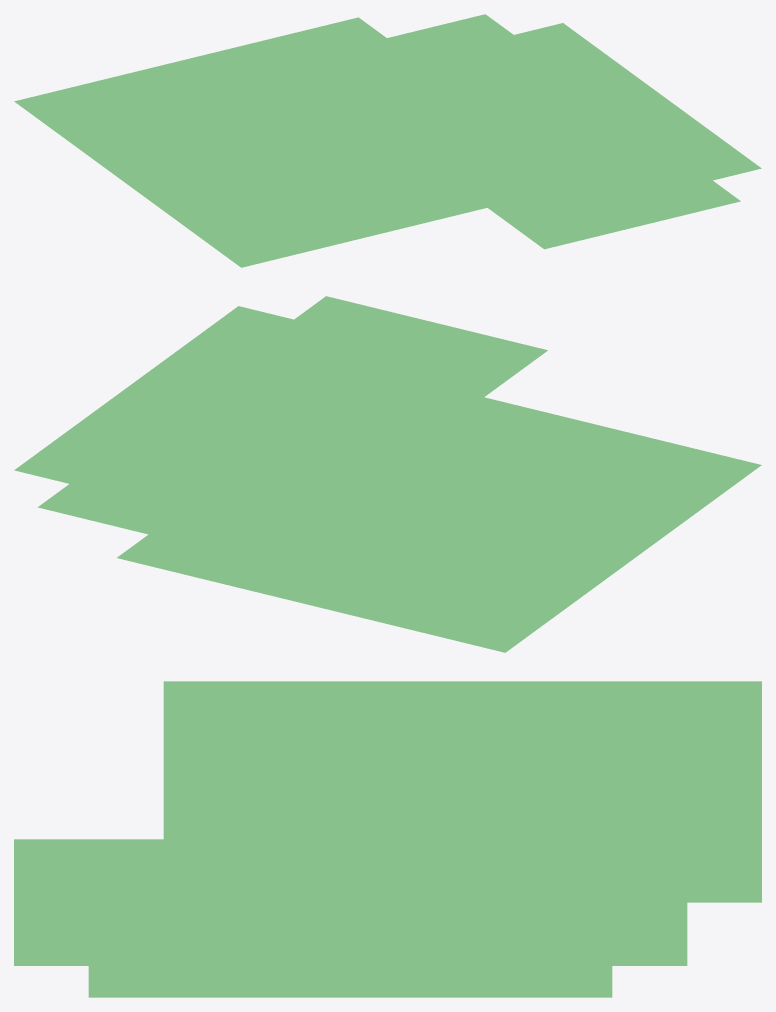
The model's file is Mesh_Home_RF_Gound_01_SM.fbx.
3 renders of one model, top to bottom at view 1: azimuth 30°, elevation 25°; view 2: azimuth 150°, elevation 25°; view 3: azimuth 270°, elevation 25°, orthographic. The views are drawn at different scales.
Parts seen in each view (by area): view 1: Mesh_Home_RF_Gound_01; view 2: Mesh_Home_RF_Gound_01; view 3: Mesh_Home_RF_Gound_01.
Boxes of the visible parts, <box> form: Mesh_Home_RF_Gound_01: <box>14,14,761,267</box>; Mesh_Home_RF_Gound_01: <box>14,296,761,652</box>; Mesh_Home_RF_Gound_01: <box>14,681,761,997</box>.
Size of the model in its own units: 3000 by 0 by 3000.
Materials: 1 (1 with a texture image).
